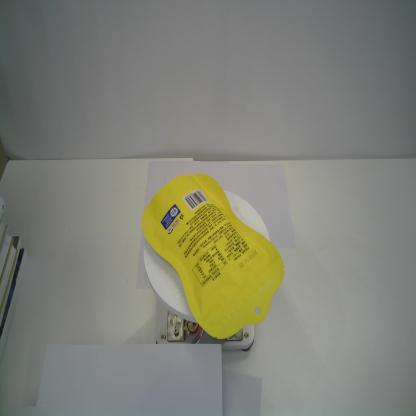Dried Fruit: (140, 171, 286, 343)
